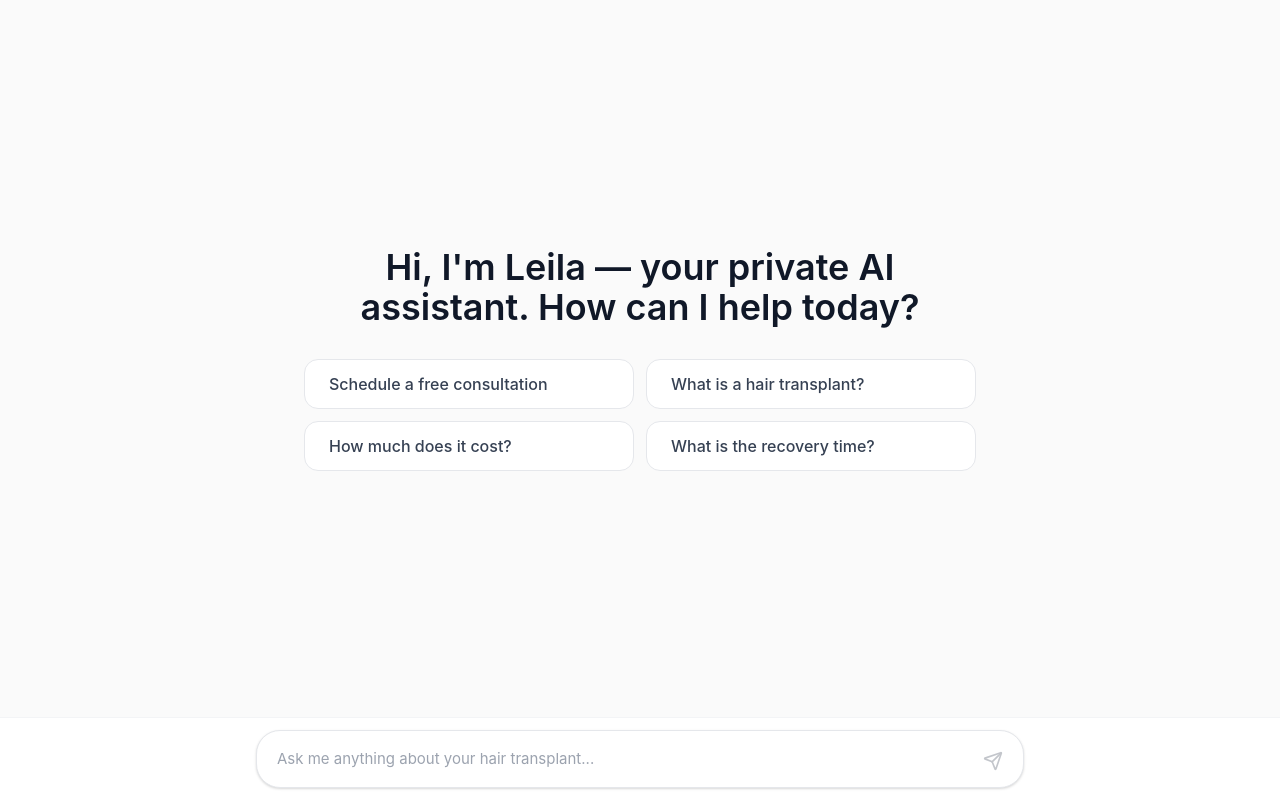
Test case: LangchainChat › loading and streaming › displays assistant message after stream completes
The image size is (1280, 800).
Click the button "How much does it cost?": (469, 446) [304,420,634,470]
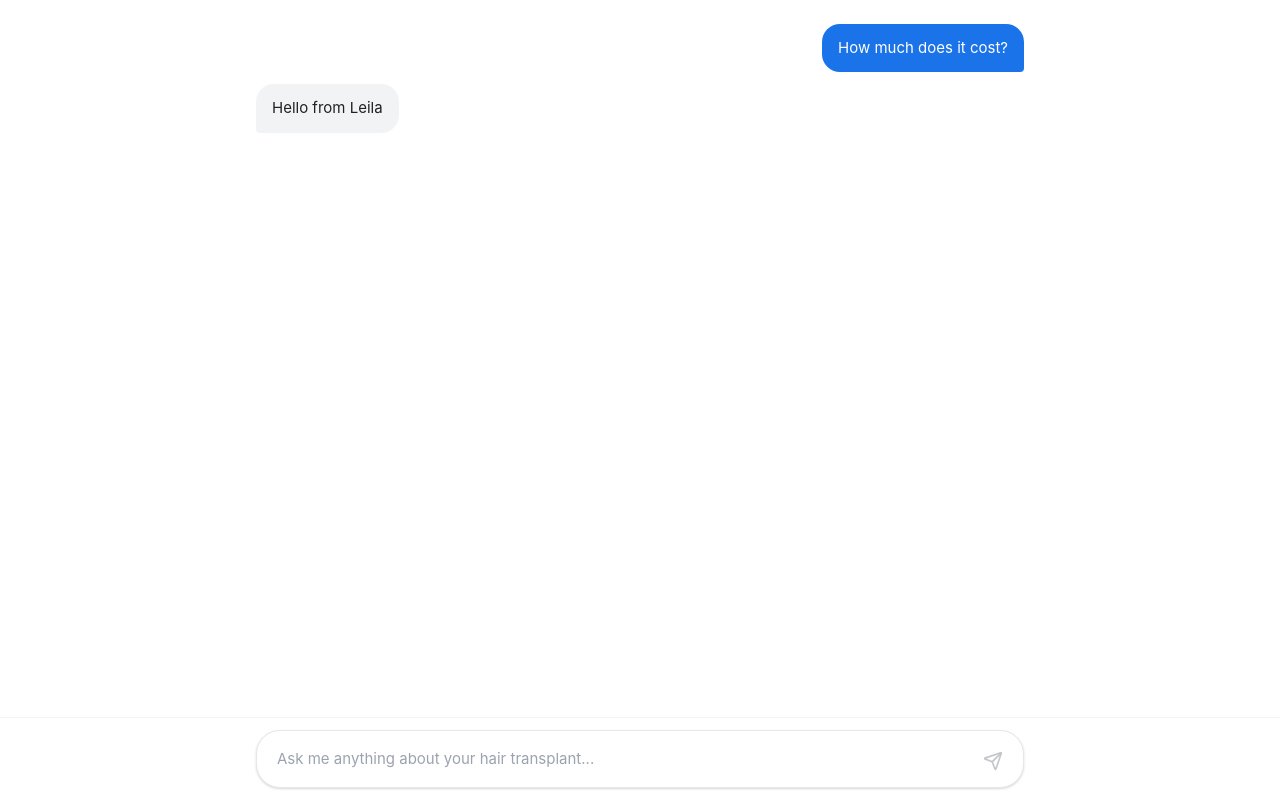
Now the text "Hello from Leila" is shown, box [272,96,383,121]
